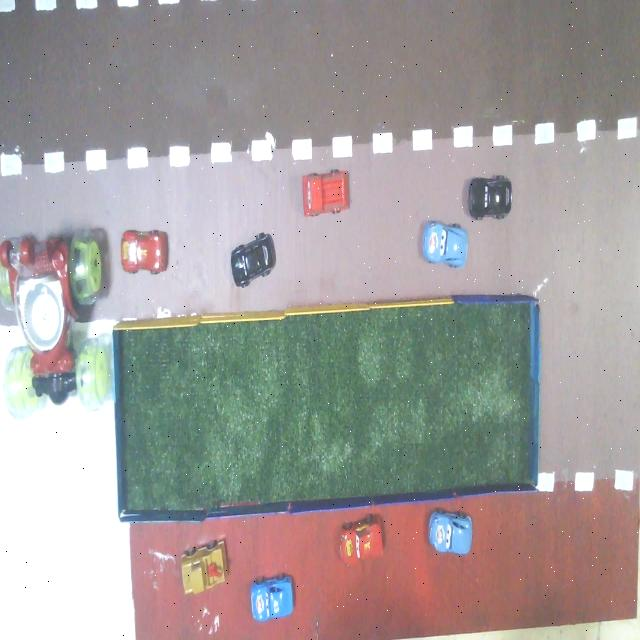emergency car: (0, 233, 109, 418)
small cars: (231, 233, 275, 287), (182, 541, 226, 594), (340, 515, 383, 565), (303, 170, 349, 216), (121, 230, 168, 274), (423, 222, 468, 267), (251, 575, 293, 621), (429, 510, 472, 554), (469, 176, 512, 219)
